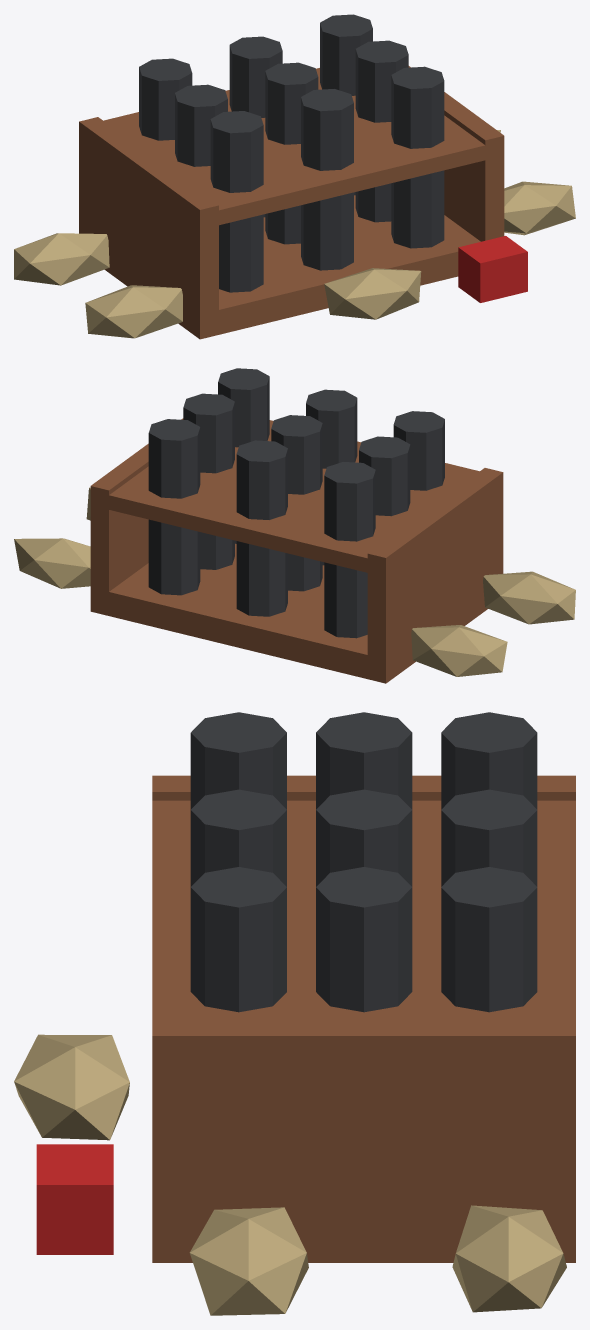
Rendered from firework-launcher.glb.
3 renders of one model, top to bottom at view 1: azimuth 30°, elevation 25°; view 2: azimuth 150°, elevation 25°; view 3: azimuth 270°, elevation 25°, orthographic. The views are drawn at different scales.
Visible parts, largest first — view 1: FireworkLauncher_Frame, FireworkLauncher_Tube, FireworkLauncher_Sand, FireworkLauncher_Fuse; view 2: FireworkLauncher_Frame, FireworkLauncher_Tube, FireworkLauncher_Sand; view 3: FireworkLauncher_Frame, FireworkLauncher_Tube, FireworkLauncher_Sand, FireworkLauncher_Fuse.
Part boxes in pixels (<box>): FireworkLauncher_Frame: <box>79,66,504,339</box>; FireworkLauncher_Tube: <box>139,14,444,292</box>; FireworkLauncher_Sand: <box>14,130,575,338</box>; FireworkLauncher_Fuse: <box>458,236,527,302</box>; FireworkLauncher_Frame: <box>90,418,503,683</box>; FireworkLauncher_Tube: <box>148,368,444,638</box>; FireworkLauncher_Sand: <box>14,487,575,676</box>; FireworkLauncher_Frame: <box>152,775,575,1262</box>; FireworkLauncher_Tube: <box>190,712,537,1012</box>; FireworkLauncher_Sand: <box>14,1034,566,1315</box>; FireworkLauncher_Fuse: <box>36,1144,113,1254</box>.
Bounding box in the file's own units: 10.41 × 3.74 × 5.84.
